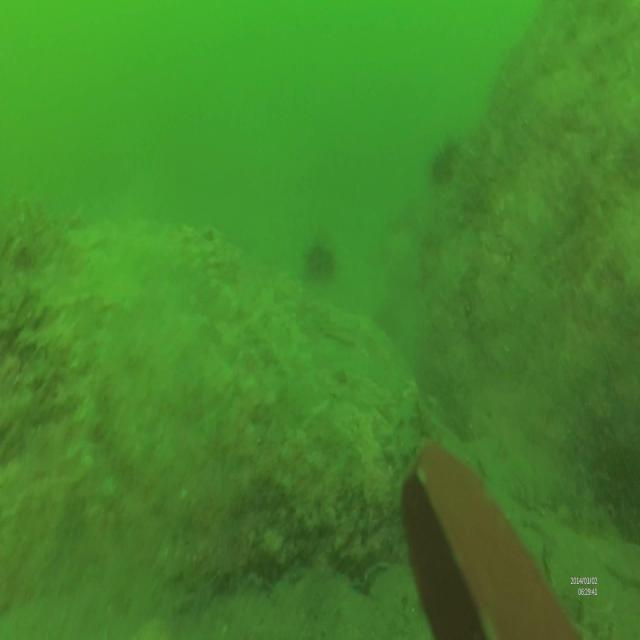echinus: (304, 233, 338, 289), (428, 137, 462, 187)
